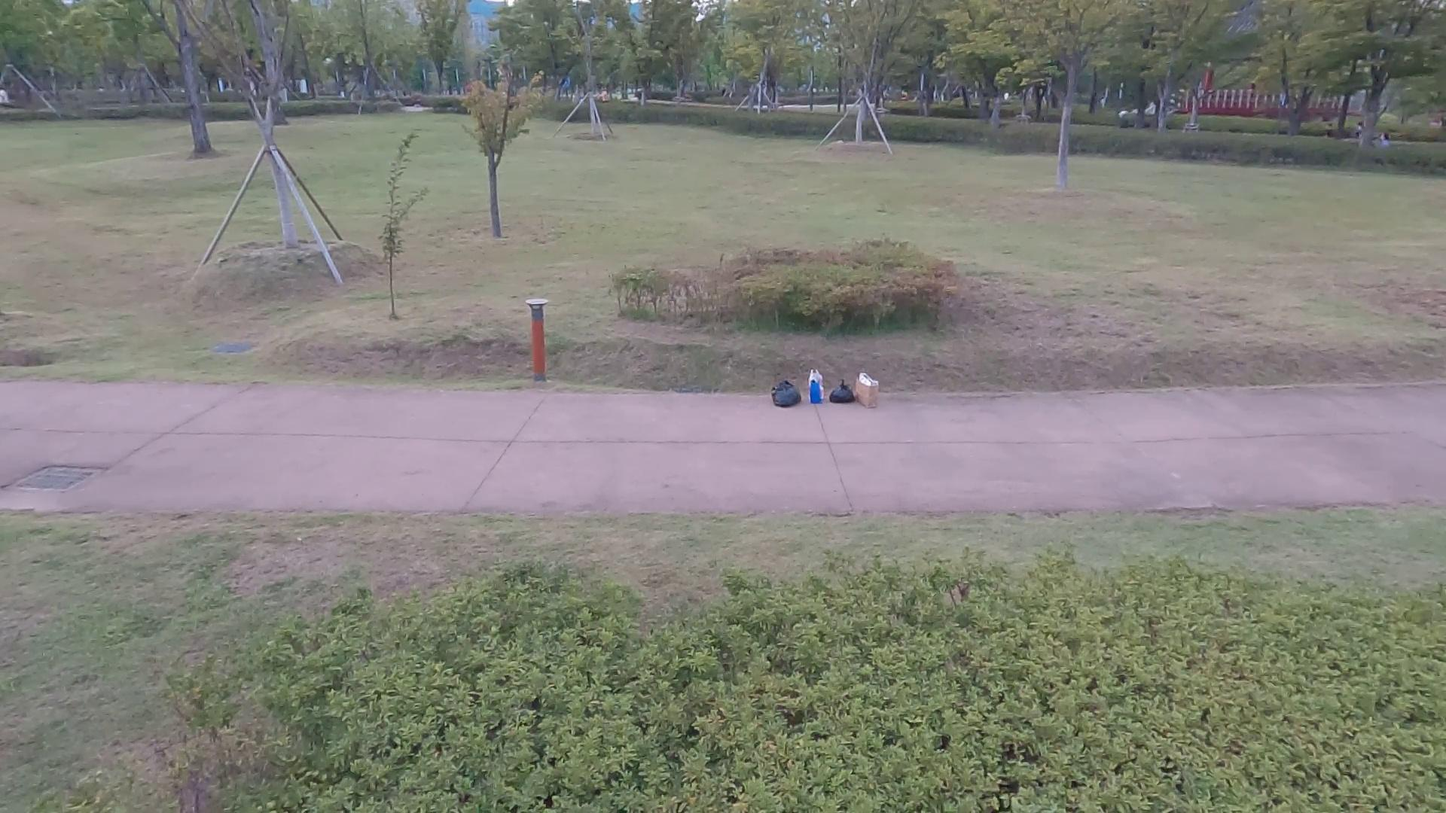trash: (767, 378, 804, 409), (854, 373, 883, 412), (809, 366, 827, 409), (832, 383, 859, 408)
